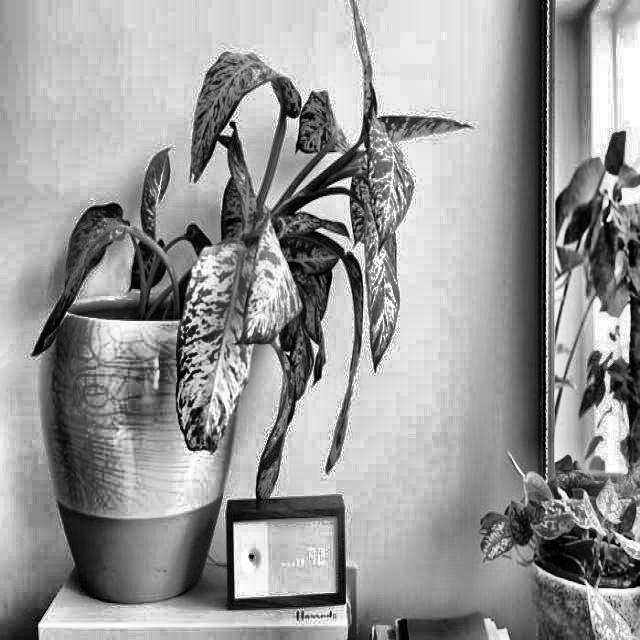plants: (44, 26, 424, 600), (176, 239, 250, 452), (185, 36, 272, 188)
